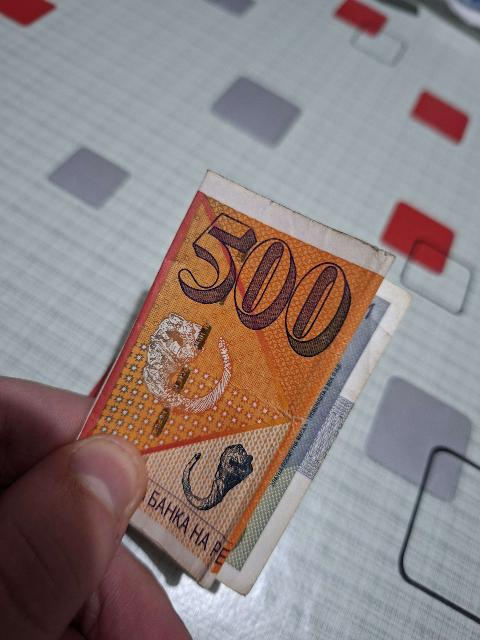500_note: (81, 172, 393, 586)
